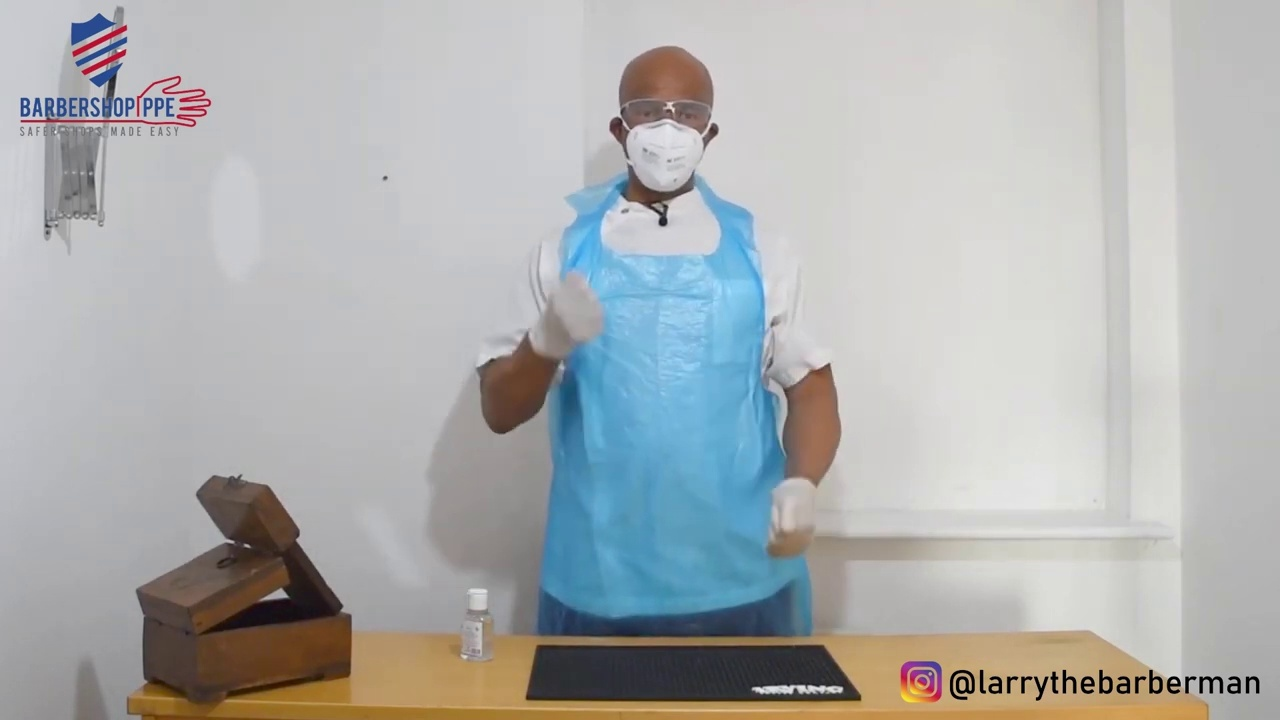Apron: (521, 165, 828, 649)
Glove: (720, 441, 839, 567), (517, 266, 623, 385)
Mask: (600, 112, 741, 204)
No_Hairnet: (609, 40, 723, 128)
